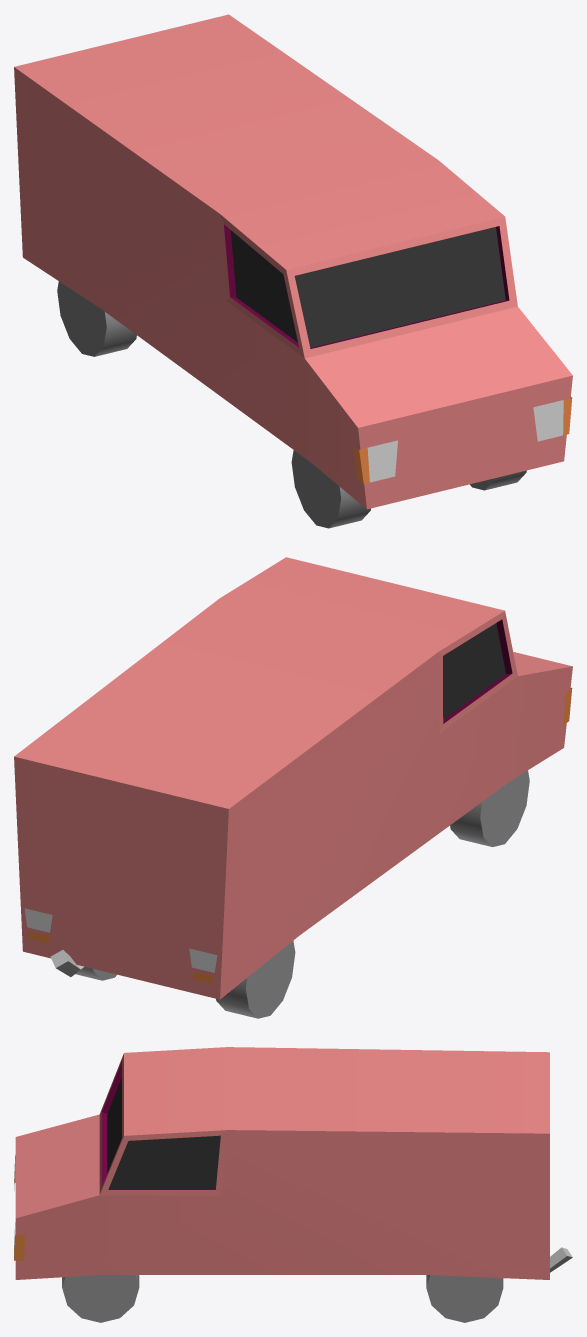
The model's file is van_10.fbx.
3 views of the same model, one above another, from view 1: azimuth 30°, elevation 25°; view 2: azimuth 150°, elevation 25°; view 3: azimuth 270°, elevation 25° (orthographic). The views are drawn at different scales.
Parts seen in each view (by area): view 1: van_10; view 2: van_10; view 3: van_10.
Boxes of the visible parts, x1,y1,x2,y2 form: van_10: [14, 14, 572, 528]; van_10: [14, 557, 572, 1018]; van_10: [14, 1047, 572, 1322].
Bounding box in the file's own units: 1.61 × 1.8 × 4.59.
